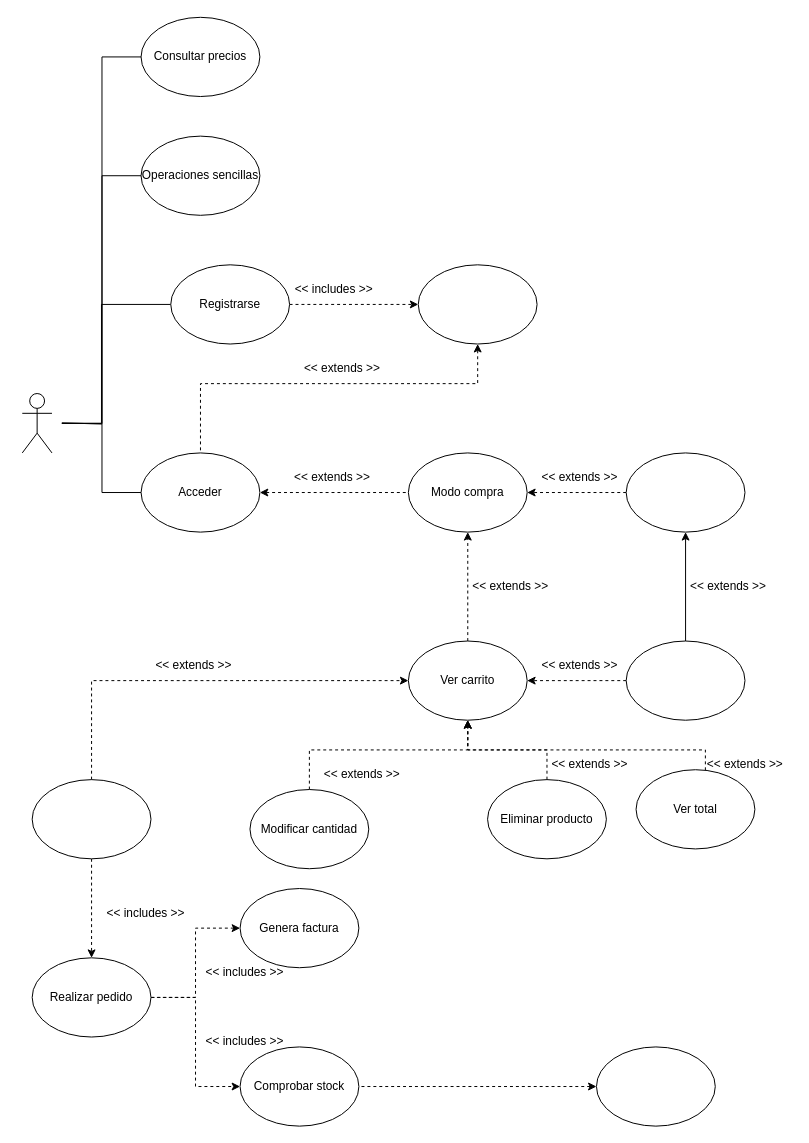
Some shapes in this 809 by 1143 pixel diagram are drawn without their labels. Here are the shapes that lost their labels. From the top down, the box of each, then its label:
(417, 264, 537, 344): Rellenar datos personales
(21, 393, 52, 453): Usuario
(625, 452, 745, 532): Navegar tienda
(625, 640, 745, 720): Añadir al carrito
(31, 779, 151, 859): Enviar
(595, 1046, 715, 1126): Envía paquete
